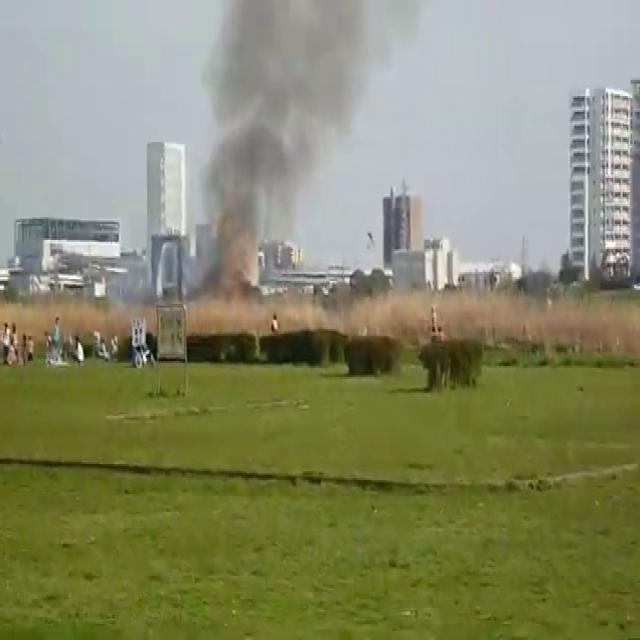Smoke: (184, 0, 358, 283)
